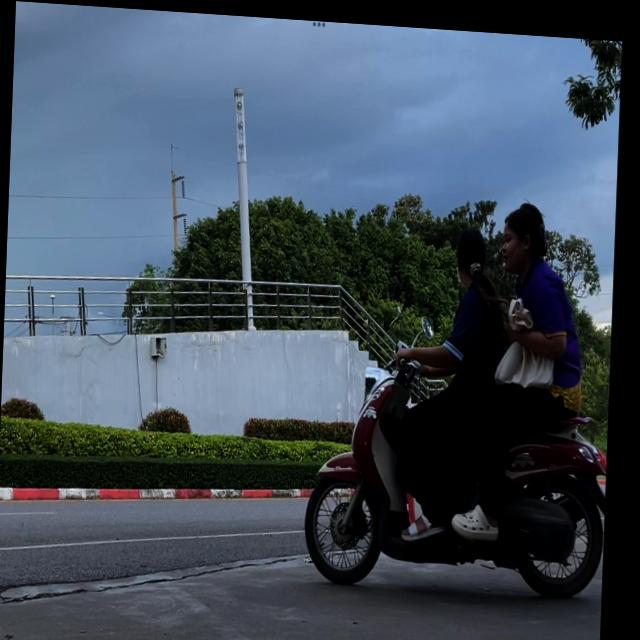seatbelt: (501, 193, 551, 272), (456, 219, 491, 283)
